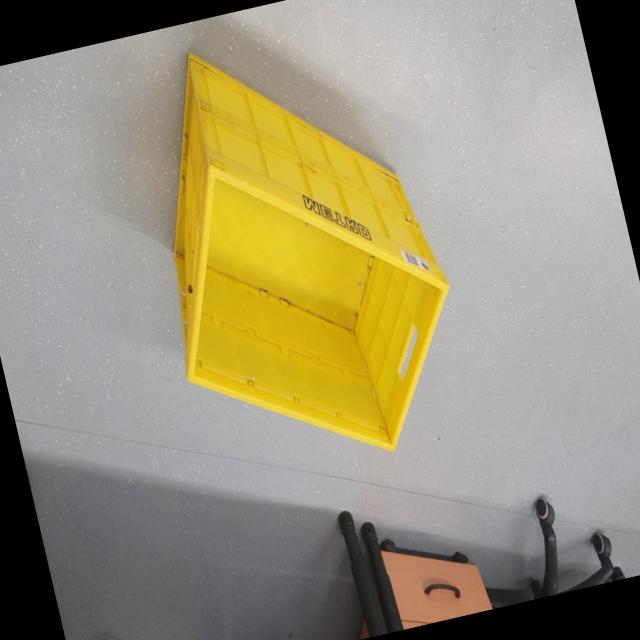box: (93, 0, 486, 513)
